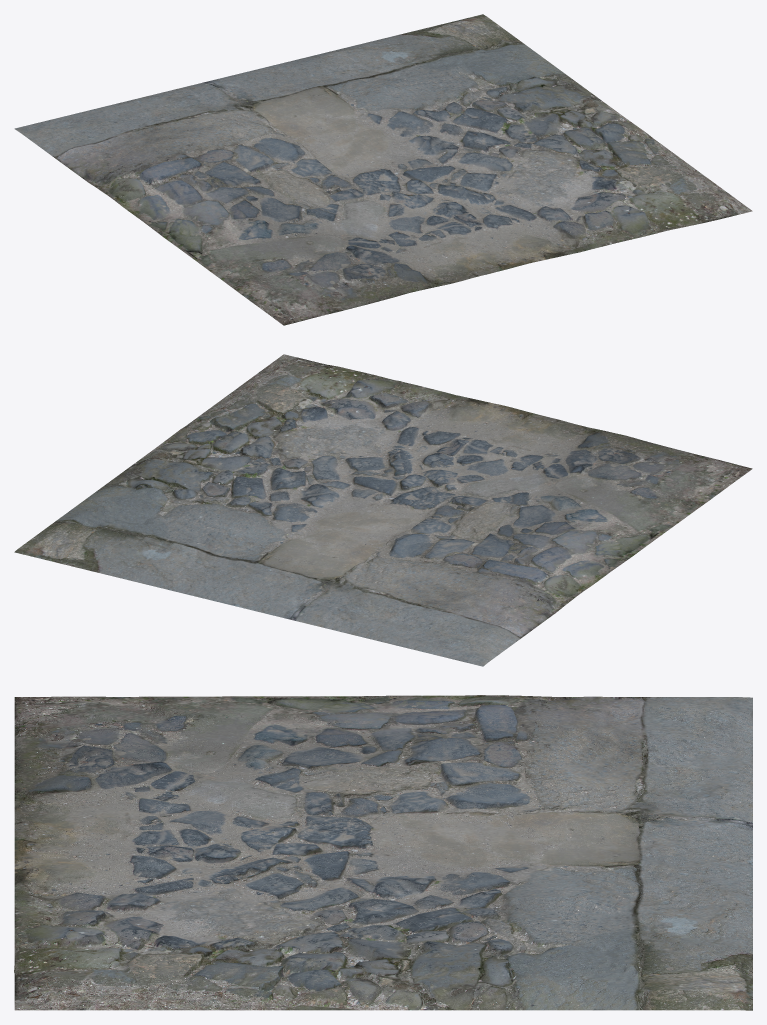
The model's file is sm_Stairs_01_04.fbx.
3 views of the same model, one above another, from view 1: azimuth 30°, elevation 25°; view 2: azimuth 150°, elevation 25°; view 3: azimuth 270°, elevation 25° (orthographic). The views are drawn at different scales.
Visible parts, largest first — view 1: sm_Stairs_01_04_LOD0; view 2: sm_Stairs_01_04_LOD0; view 3: sm_Stairs_01_04_LOD0.
Part boxes in pixels (box(x1,y1,x2,y2)): sm_Stairs_01_04_LOD0: box(14, 14, 752, 325); sm_Stairs_01_04_LOD0: box(14, 354, 752, 666); sm_Stairs_01_04_LOD0: box(14, 695, 752, 1010).
Bounding box in the file's own units: 200 × 200 × 6.47.
